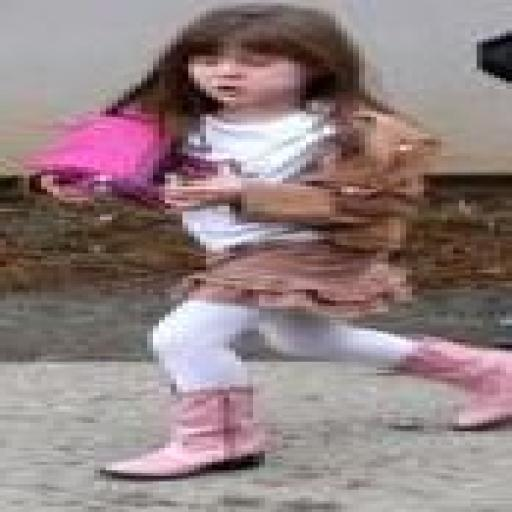person: (101, 3, 511, 478)
